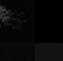eye: (0, 0, 35, 43)
